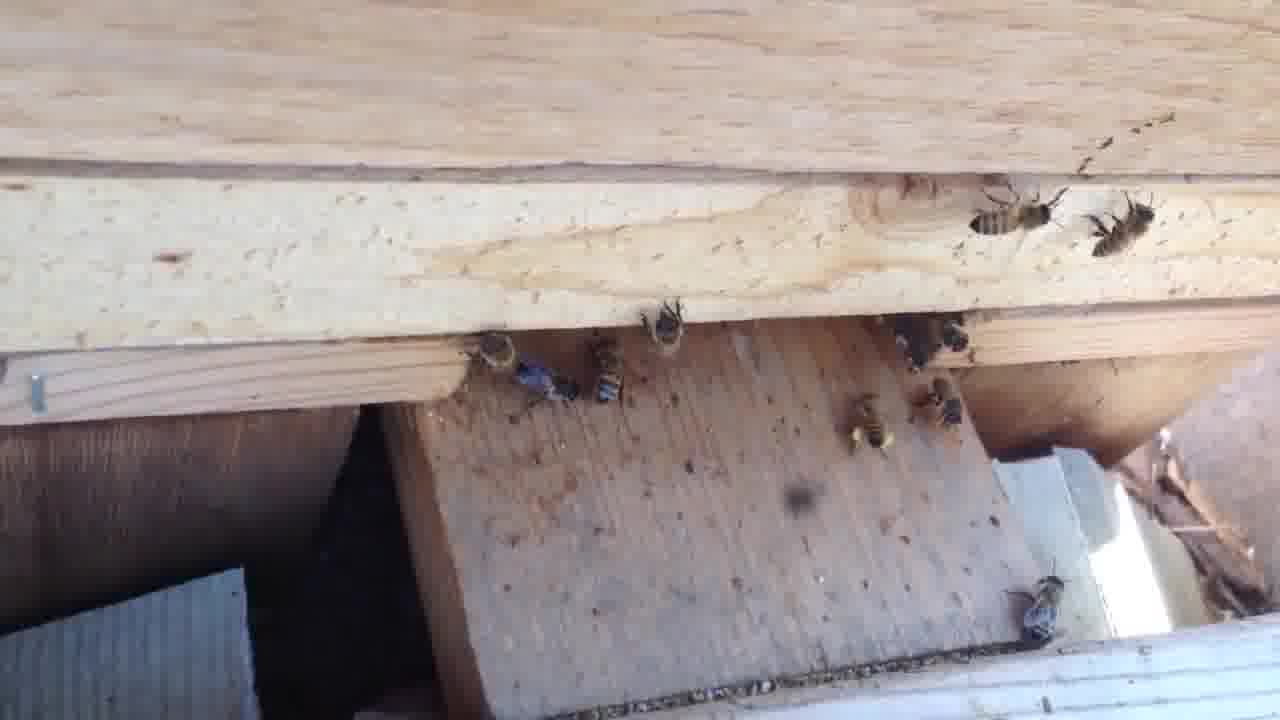pollen: (839, 391, 905, 459)
